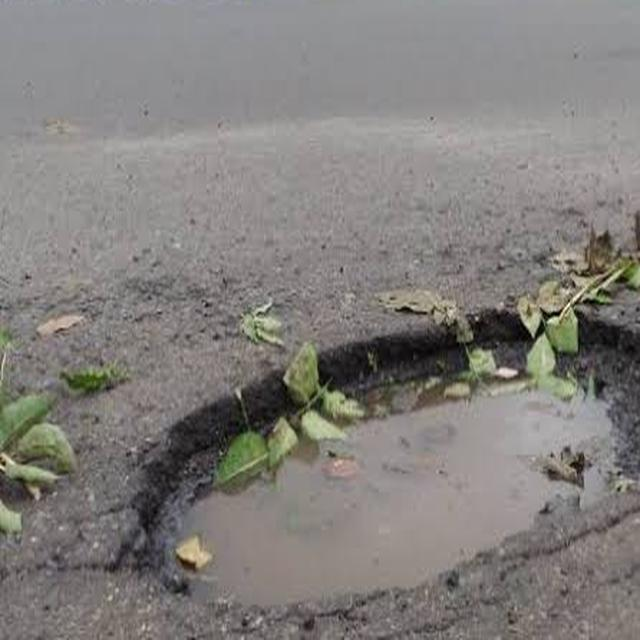Lubang: (154, 313, 640, 620)
